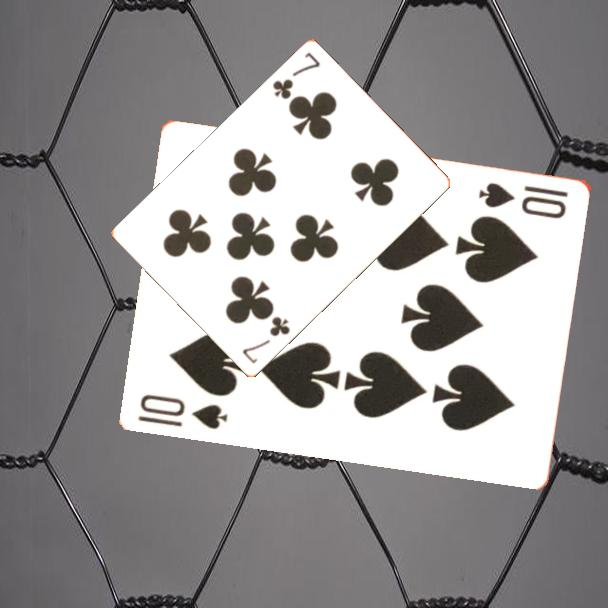c07: (238, 313, 293, 367), (269, 49, 323, 103)
s10: (476, 178, 571, 222), (135, 390, 231, 432)
